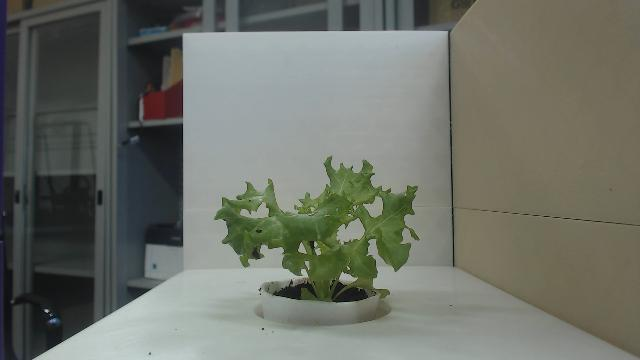Vegetative Stage: (215, 153, 422, 303)
